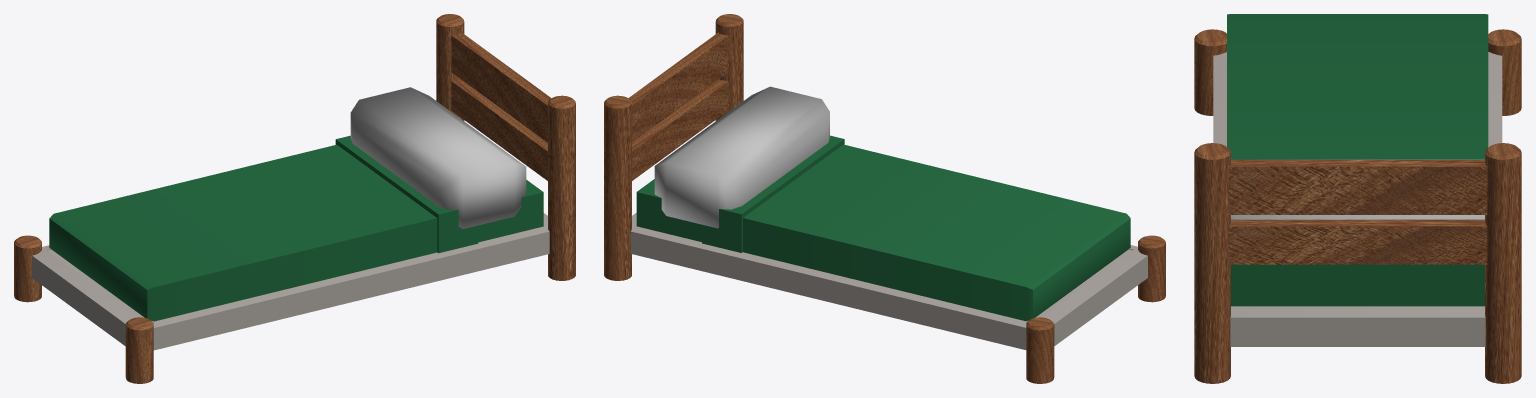
Rendered from camita.fbx.
3 renders of one model, left to right at view 1: azimuth 30°, elevation 25°; view 2: azimuth 150°, elevation 25°; view 3: azimuth 270°, elevation 25°, orthographic. The views are drawn at different scales.
Parts seen in each view (by area): view 1: camita; view 2: camita; view 3: camita.
Boxes of the visible parts, x1,y1,x2,y2 form: camita: [14, 14, 575, 383]; camita: [604, 14, 1165, 383]; camita: [1194, 14, 1521, 383].
Size of the model in its own units: 216 by 80.64 by 105.
